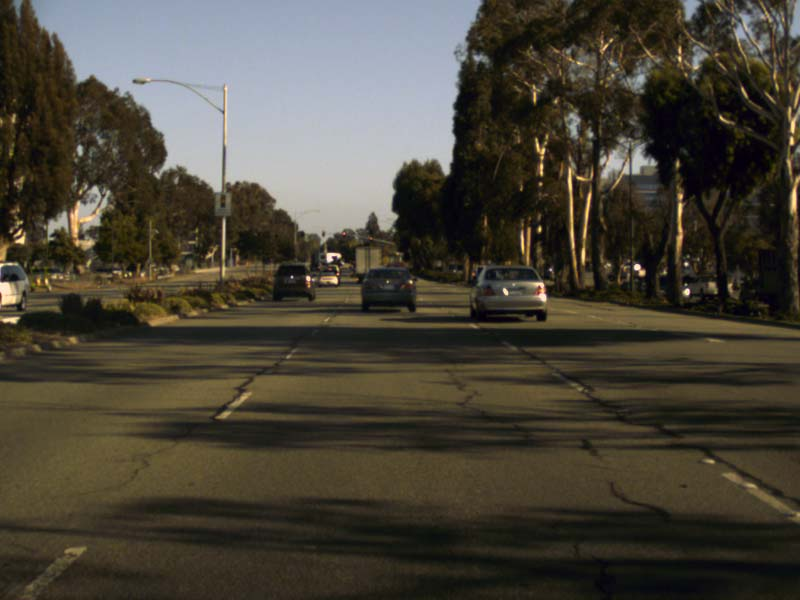Red: (341, 231, 345, 237), (368, 237, 372, 240)
